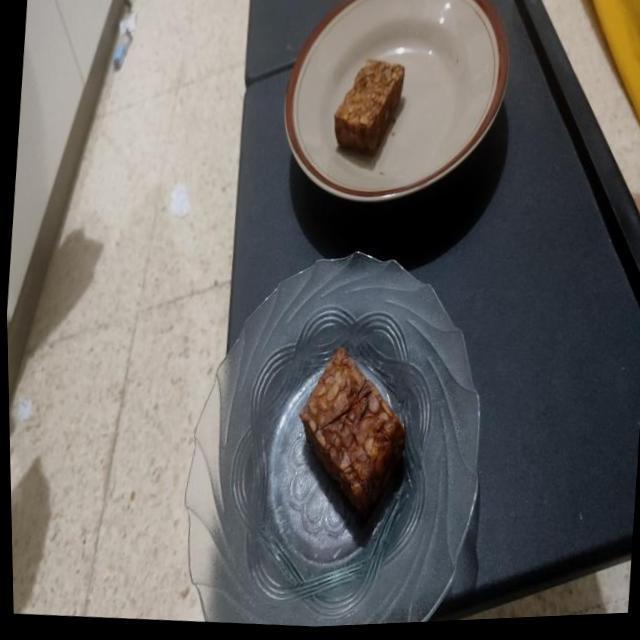tempe_goreng: (299, 347, 404, 514), (334, 60, 404, 154)
